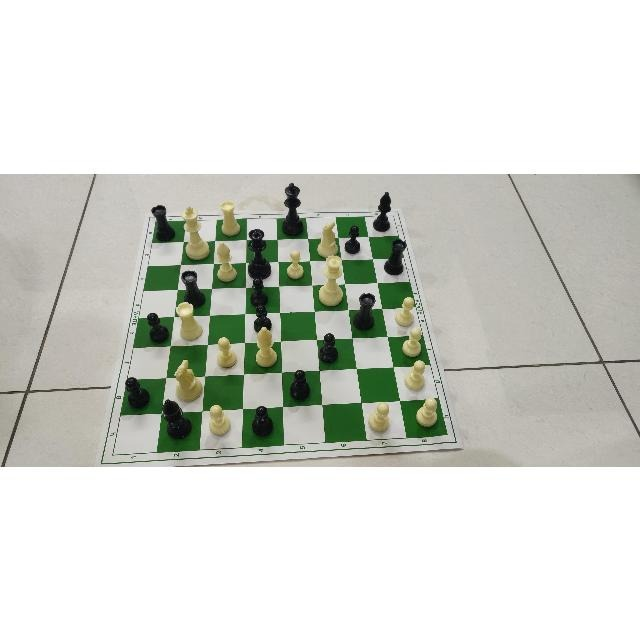black-bishop: (159, 396, 199, 440), (372, 186, 396, 234), (372, 191, 392, 231)
black-king: (281, 180, 305, 235)
black-pawn: (125, 376, 151, 408), (146, 311, 170, 342), (317, 331, 340, 363), (250, 404, 273, 436), (289, 369, 311, 401), (252, 301, 273, 333), (249, 275, 268, 306), (344, 223, 362, 254)
black-queen: (246, 227, 273, 279)
black-rook: (180, 268, 206, 308), (351, 291, 376, 330), (150, 203, 175, 241), (384, 237, 408, 274)
white-bishop: (215, 238, 238, 281), (254, 325, 277, 367)
white-king: (182, 203, 210, 260)
white-knight: (172, 358, 203, 402), (316, 220, 339, 257)
white-pawn: (208, 403, 232, 437), (215, 335, 237, 369), (403, 358, 426, 390), (368, 400, 390, 433), (416, 395, 438, 428), (393, 295, 415, 326), (401, 325, 422, 356), (286, 248, 304, 280)
white-queen: (318, 254, 344, 306)
white-rook: (176, 301, 202, 341), (219, 200, 240, 236)
